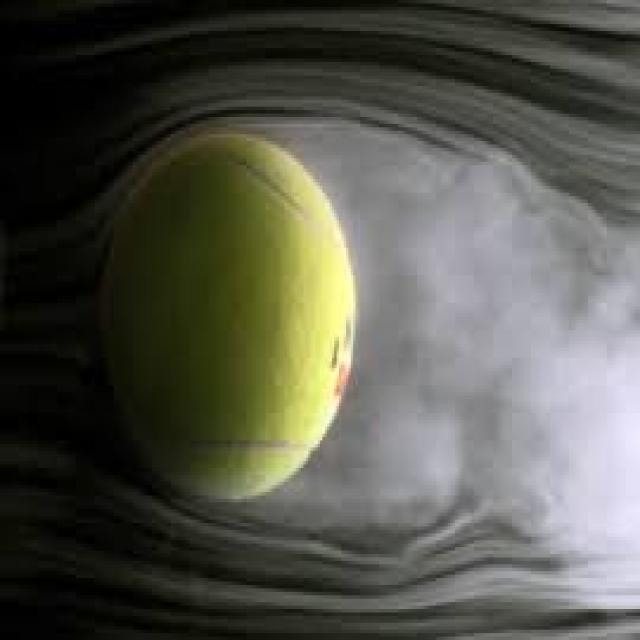Tennis-Ball: (96, 129, 359, 506)
